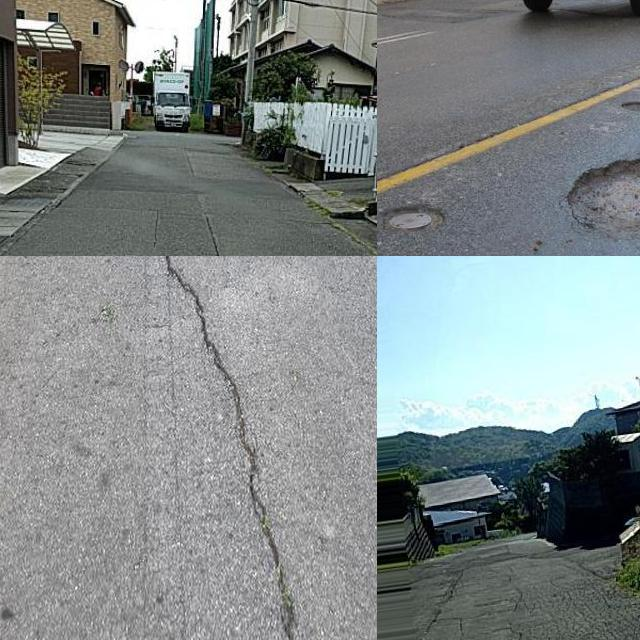Lubang: (562, 153, 640, 246), (377, 198, 443, 239)
Memanjang: (147, 256, 326, 640)
